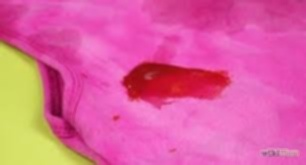lipstick: (119, 60, 235, 108), (112, 112, 122, 120), (166, 146, 177, 153)
